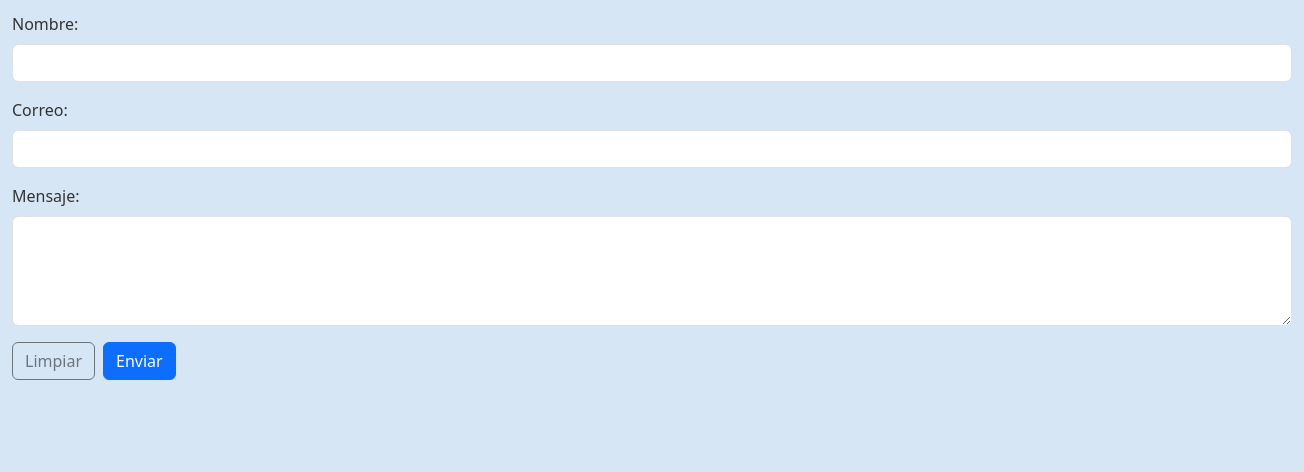
FormularioContacto › muestra los tres errores cuando se envía vacío
Click the button "Enviar". click: coordinates (139, 361)
box: x1=103 y1=342 x2=176 y2=380
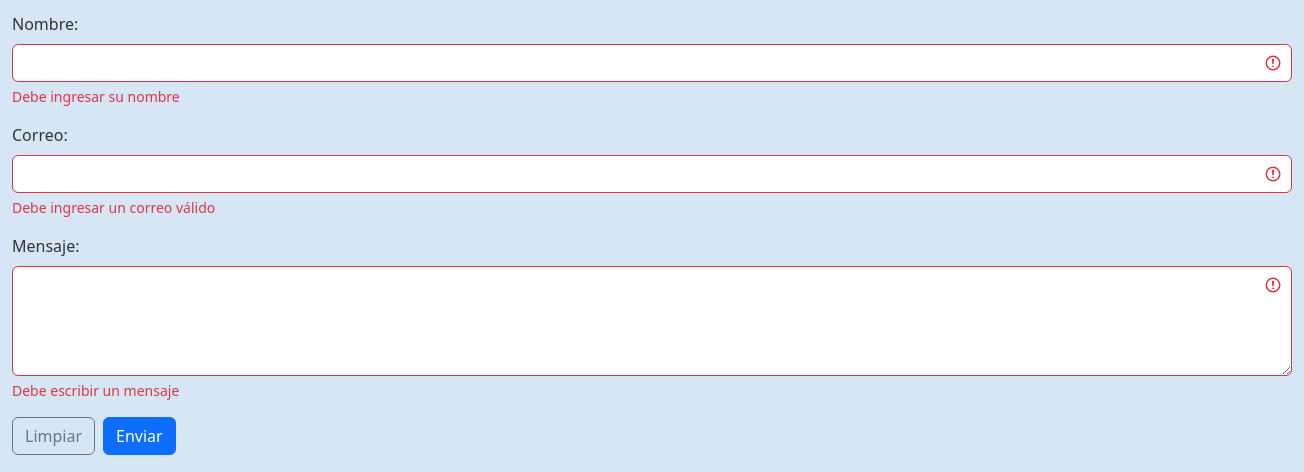
Check: the text "Debe ingresar su nombre" is shown, box x1=12 y1=87 x2=180 y2=106
Check: the text "Debe ingresar un correo válido" is shown, box x1=12 y1=198 x2=215 y2=217
Check: the text "Debe escribir un mensaje" is shown, box x1=12 y1=381 x2=179 y2=400
